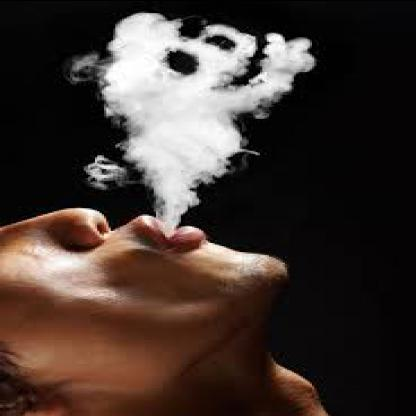Smoke: (80, 17, 298, 209)
